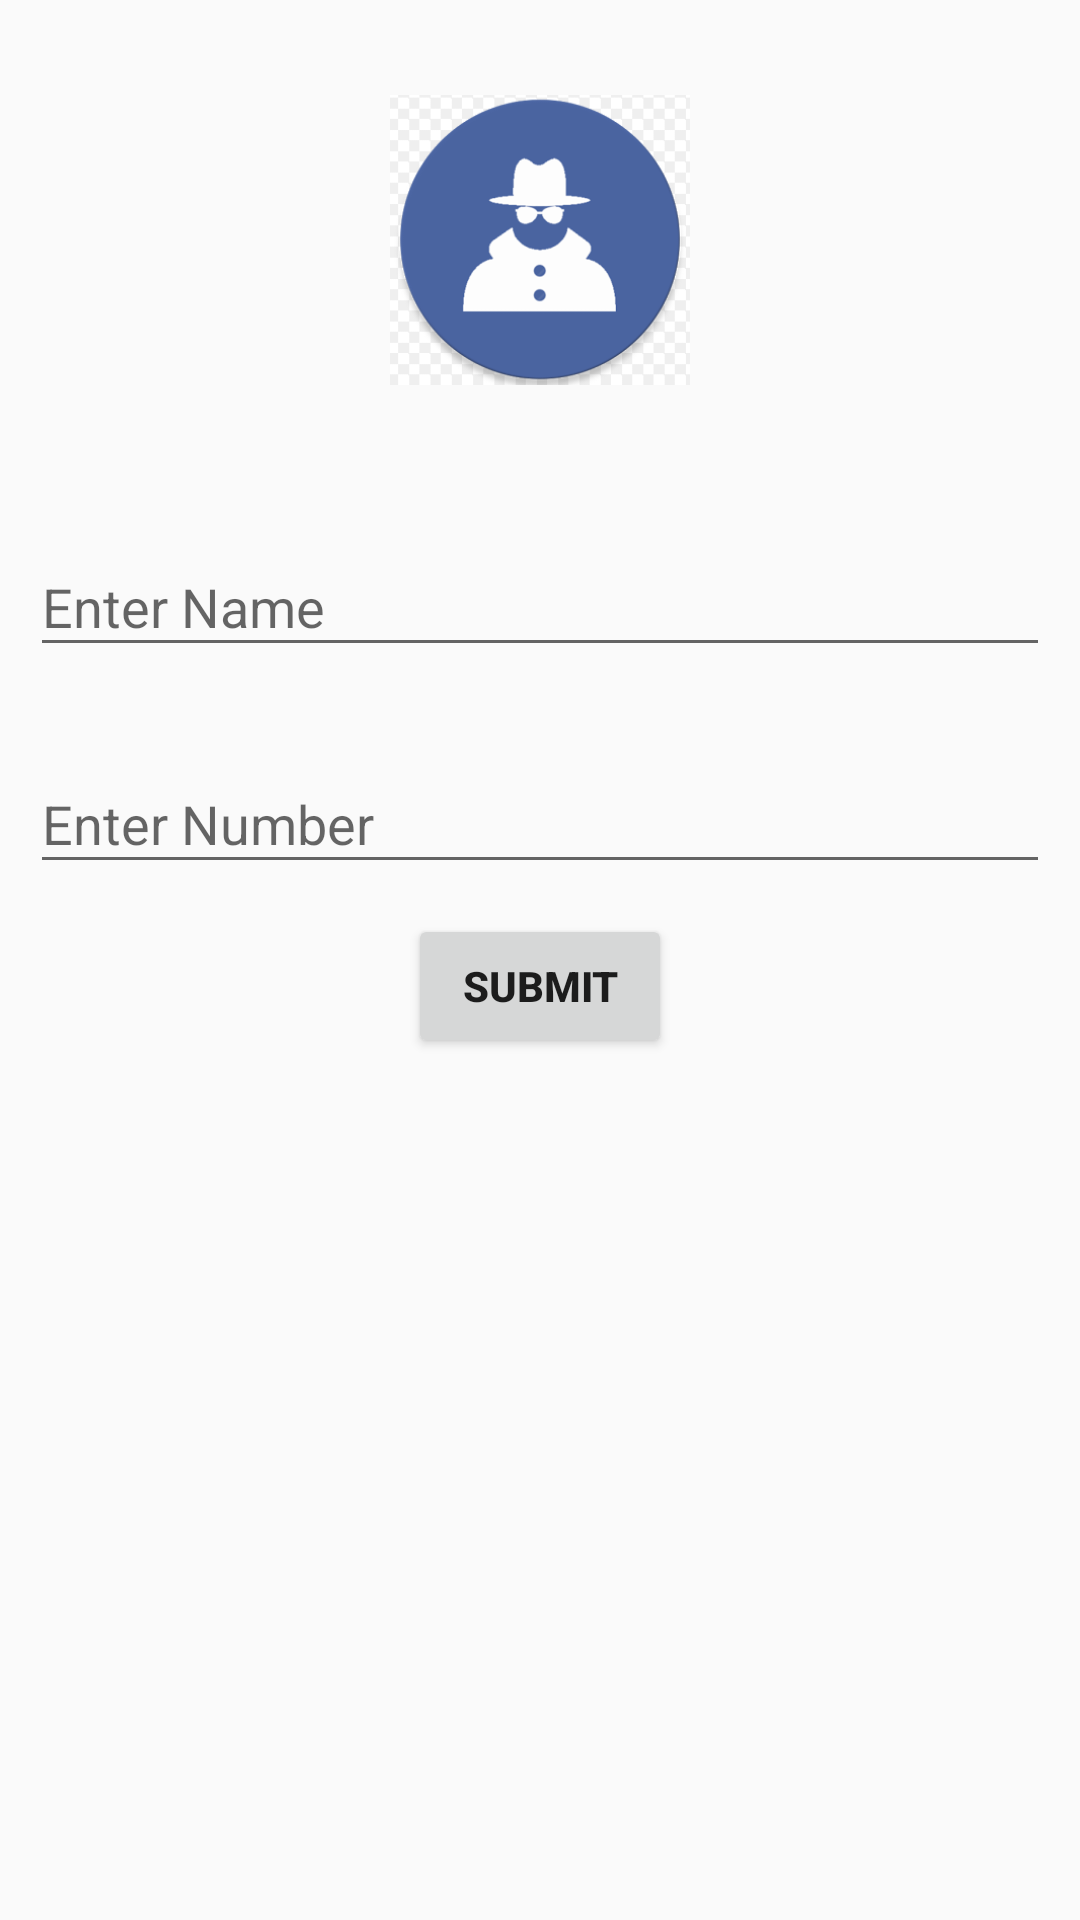

Icons on this 1080px x 1920px Android screen, each with its box as (x1, y1, x2, y2):
prof: (399, 99, 682, 385)
